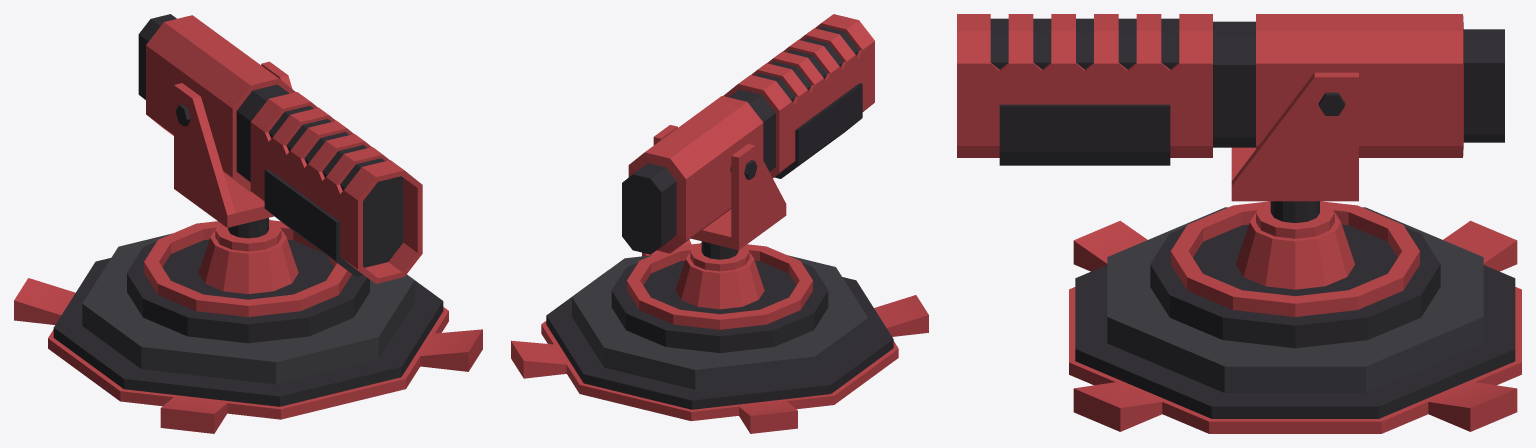
File: ScoutAnimation.fbx
3 views of the same model, side by side, from view 1: azimuth 30°, elevation 25°; view 2: azimuth 150°, elevation 25°; view 3: azimuth 270°, elevation 25° (orthographic). The views are drawn at different scales.
Parts seen in each view (by area): view 1: Cube.002; view 2: Cube.002; view 3: Cube.002.
Part boxes in pixels (x1=…): Cube.002: x1=14, y1=14, x2=482, y2=433; Cube.002: x1=511, y1=14, x2=928, y2=433; Cube.002: x1=957, y1=14, x2=1521, y2=433.
Size of the model in its own units: 181 by 139 by 226.
